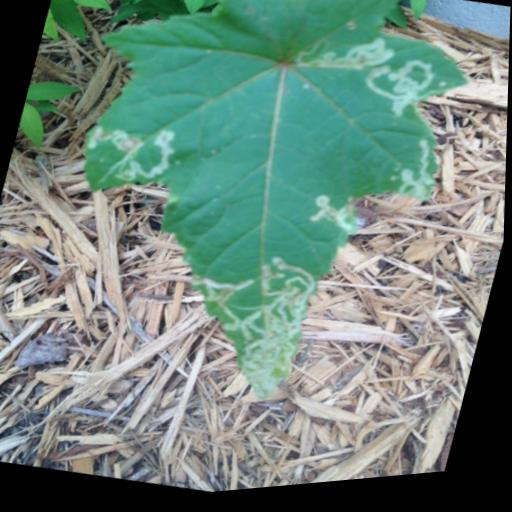Leaf_Miner: (25, 0, 479, 443)
